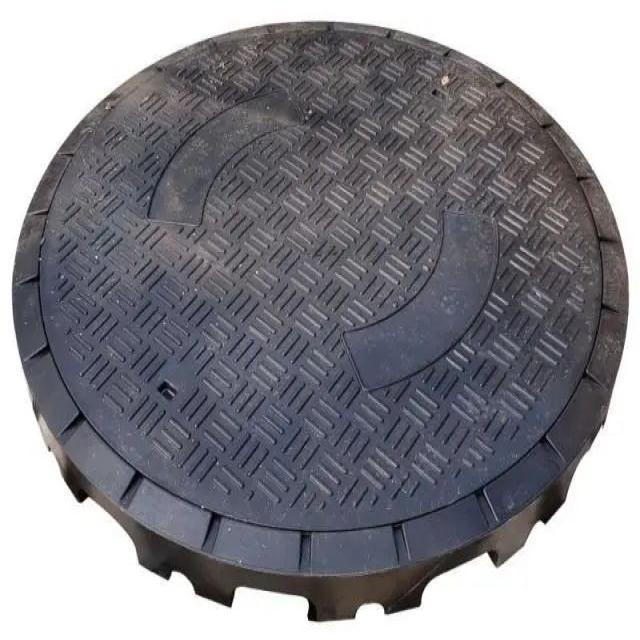manhole: (14, 21, 629, 624)
